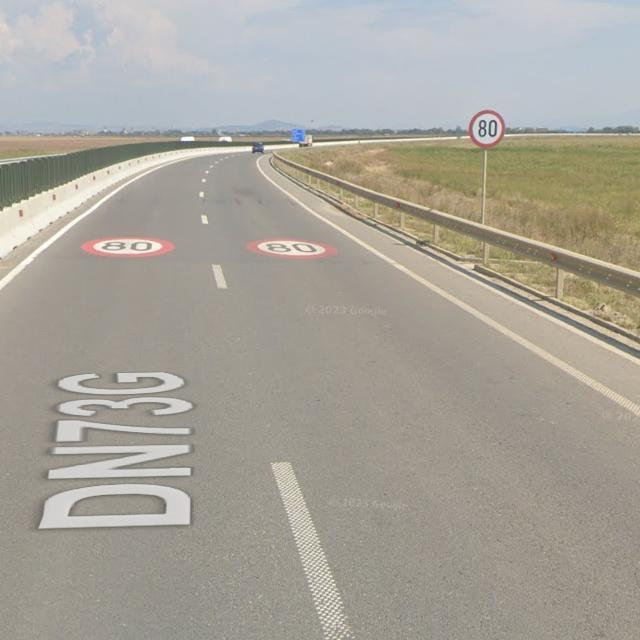forb_speed_over_80: (80, 235, 176, 260), (249, 235, 335, 260), (466, 108, 508, 149)
